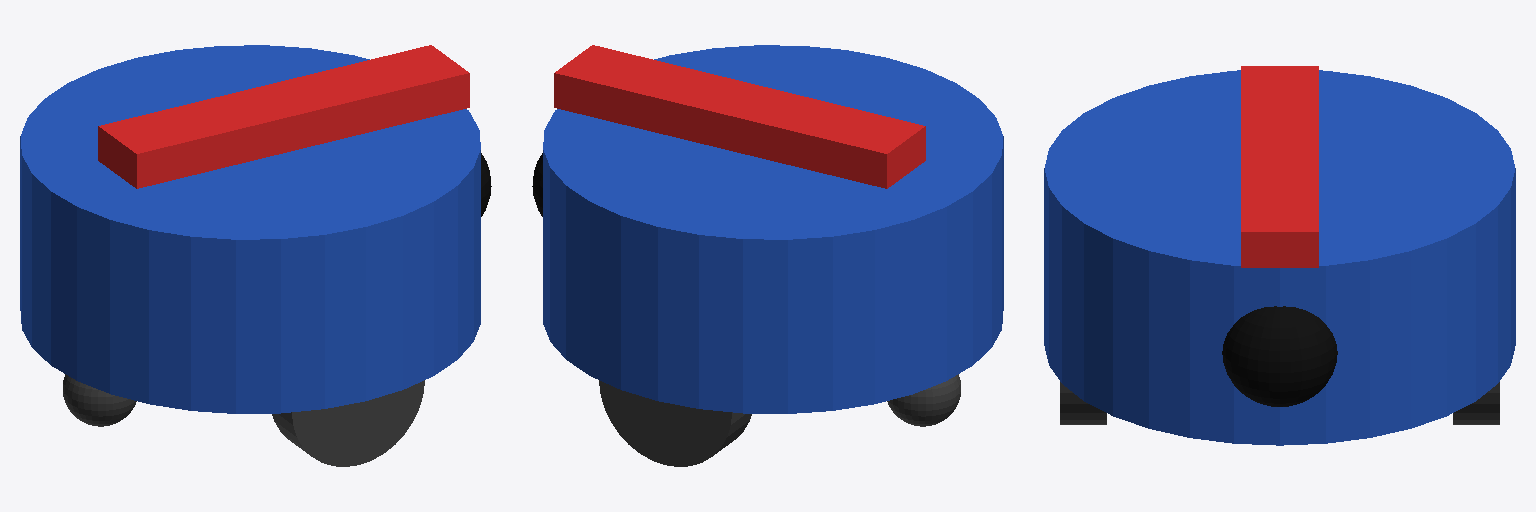
URDF robot description (diffdrive_wheel_robot):
<?xml version="1.0" ?>
<!-- =================================================================================== -->
<!-- |    This document was autogenerated by xacro from /home/docker_user/catkin_ws/src/contact_maintain/urdf/xacro/diffdrive_wheel_robot.urdf.xacro | -->
<!-- |    EDITING THIS FILE BY HAND IS NOT RECOMMENDED                                 | -->
<!-- =================================================================================== -->
<!--
  Differential Drive Robot URDF (Realistic with Wheels)
  
  A non-holonomic robot with 2 drive wheels and a caster wheel.
  Unlike the dummy DifferentialDriveRobot that constrains velocity directly,
  this robot uses actual wheel control and physics.
  
  Kinematics:
  - v = (v_left + v_right) / 2
  - omega = (v_right - v_left) / wheel_base
-->
<robot name="diffdrive_wheel_robot">
  <!-- ==================== PARAMETERS ==================== -->
  <!-- ==================== MATERIALS ==================== -->
  <material name="robot_blue">
    <color rgba="0.2 0.4 0.8 1.0"/>
  </material>
  <material name="black">
    <color rgba="0.1 0.1 0.1 1.0"/>
  </material>
  <material name="dark_gray">
    <color rgba="0.3 0.3 0.3 1.0"/>
  </material>
  <material name="marker_red">
    <color rgba="0.9 0.2 0.2 1.0"/>
  </material>
  <!-- ==================== WORLD LINK ==================== -->
  <link name="world"/>
  <!-- ==================== PLANAR JOINTS ==================== -->
  <!-- X translation joint -->
  <joint name="x_joint" type="prismatic">
    <parent link="world"/>
    <child link="x_carrier"/>
    <origin rpy="0 0 0" xyz="0 0 0.02"/>
    <axis xyz="1 0 0"/>
    <limit effort="1000" lower="-100" upper="100" velocity="10"/>
    <dynamics damping="1.0"/>
  </joint>
  <link name="x_carrier">
    <inertial>
      <mass value="0.01"/>
      <inertia ixx="0.0001" ixy="0" ixz="0" iyy="0.0001" iyz="0" izz="0.0001"/>
    </inertial>
  </link>
  <!-- Y translation joint -->
  <joint name="y_joint" type="prismatic">
    <parent link="x_carrier"/>
    <child link="y_carrier"/>
    <origin rpy="0 0 0" xyz="0 0 0"/>
    <axis xyz="0 1 0"/>
    <limit effort="1000" lower="-100" upper="100" velocity="10"/>
    <dynamics damping="1.0"/>
  </joint>
  <link name="y_carrier">
    <inertial>
      <mass value="0.01"/>
      <inertia ixx="0.0001" ixy="0" ixz="0" iyy="0.0001" iyz="0" izz="0.0001"/>
    </inertial>
  </link>
  <!-- Theta rotation joint -->
  <joint name="theta_joint" type="continuous">
    <parent link="y_carrier"/>
    <child link="base_link"/>
    <origin rpy="0 0 0" xyz="0 0 0"/>
    <axis xyz="0 0 1"/>
    <limit effort="1000" velocity="20"/>
    <dynamics damping="0.5"/>
  </joint>
  <!-- ==================== BASE LINK ==================== -->
  <link name="base_link">
    <!-- Main cylindrical body -->
    <visual>
      <geometry>
        <cylinder length="0.05" radius="0.06"/>
      </geometry>
      <origin rpy="0 0 0" xyz="0 0 0.025"/>
      <material name="robot_blue"/>
    </visual>
    <!-- Forward direction marker -->
    <visual>
      <geometry>
        <box size="0.1 0.02 0.01"/>
      </geometry>
      <origin rpy="0 0 0" xyz="0.009999999999999995 0 0.055"/>
      <material name="marker_red"/>
    </visual>
    <collision>
      <geometry>
        <cylinder length="0.05" radius="0.06"/>
      </geometry>
      <origin rpy="0 0 0" xyz="0 0 0.025"/>
    </collision>
    <inertial>
      <mass value="0.6"/>
      <origin xyz="0 0 0.025"/>
      <inertia ixx="0.0006649999999999999" ixy="0" ixz="0" iyy="0.0006649999999999999" iyz="0" izz="0.0010799999999999998"/>
    </inertial>
  </link>
  <!-- ==================== BUMPER ==================== -->
  <joint name="bumper_joint" type="fixed">
    <parent link="base_link"/>
    <child link="bumper"/>
    <origin rpy="0 0 0" xyz="0.055 0 0.025"/>
  </joint>
  <link name="bumper">
    <visual>
      <geometry>
        <sphere radius="0.015"/>
      </geometry>
      <material name="black"/>
    </visual>
    <collision>
      <geometry>
        <sphere radius="0.015"/>
      </geometry>
    </collision>
    <inertial>
      <mass value="0.2"/>
      <inertia ixx="0.0001" ixy="0" ixz="0" iyy="0.0001" iyz="0" izz="0.0001"/>
    </inertial>
  </link>
  <!-- ==================== DRIVE WHEELS ==================== -->
  <!-- Left wheel -->
  <joint name="wheel_left_joint" type="continuous">
    <parent link="base_link"/>
    <child link="wheel_left_link"/>
    <origin rpy="-1.5708 0 0" xyz="0 0.05 0"/>
    <axis xyz="0 0 1"/>
    <limit effort="100" velocity="100"/>
    <dynamics damping="0.01"/>
  </joint>
  <link name="wheel_left_link">
    <visual>
      <geometry>
        <cylinder length="0.012" radius="0.02"/>
      </geometry>
      <material name="dark_gray"/>
    </visual>
    <collision>
      <geometry>
        <cylinder length="0.012" radius="0.02"/>
      </geometry>
    </collision>
    <inertial>
      <mass value="0.05"/>
      <inertia ixx="5.6e-06" ixy="0" ixz="0" iyy="5.6e-06" iyz="0" izz="1e-05"/>
    </inertial>
  </link>
  <!-- Right wheel -->
  <joint name="wheel_right_joint" type="continuous">
    <parent link="base_link"/>
    <child link="wheel_right_link"/>
    <origin rpy="-1.5708 0 0" xyz="0 -0.05 0"/>
    <axis xyz="0 0 1"/>
    <limit effort="100" velocity="100"/>
    <dynamics damping="0.01"/>
  </joint>
  <link name="wheel_right_link">
    <visual>
      <geometry>
        <cylinder length="0.012" radius="0.02"/>
      </geometry>
      <material name="dark_gray"/>
    </visual>
    <collision>
      <geometry>
        <cylinder length="0.012" radius="0.02"/>
      </geometry>
    </collision>
    <inertial>
      <mass value="0.05"/>
      <inertia ixx="5.6e-06" ixy="0" ixz="0" iyy="5.6e-06" iyz="0" izz="1e-05"/>
    </inertial>
  </link>
  <!-- ==================== CASTER WHEEL ==================== -->
  <joint name="caster_joint" type="fixed">
    <parent link="base_link"/>
    <child link="caster_link"/>
    <origin rpy="0 0 0" xyz="-0.045 0 -0.01"/>
  </joint>
  <link name="caster_link">
    <visual>
      <geometry>
        <sphere radius="0.01"/>
      </geometry>
      <material name="dark_gray"/>
    </visual>
    <collision>
      <geometry>
        <sphere radius="0.01"/>
      </geometry>
    </collision>
    <inertial>
      <mass value="0.1"/>
      <inertia ixx="0.00001" ixy="0" ixz="0" iyy="0.00001" iyz="0" izz="0.00001"/>
    </inertial>
  </link>
</robot>

--- Render facts (derived) ---
Views: 3 orthographic renders of the robot side by side, from view 1: azimuth 30°, elevation 25°; view 2: azimuth 150°, elevation 25°; view 3: azimuth 270°, elevation 25°.
Robot: diffdrive_wheel_robot — 8 links, 7 joints (3 continuous, 2 prismatic, 2 fixed); root link world; default pose: all joints at 0.
Links seen in each view (by area): view 1: base_link, wheel_right_link, caster_link; view 2: base_link, wheel_left_link, caster_link; view 3: base_link, bumper, wheel_left_link, wheel_right_link.
Link boxes in pixels (x1=…): base_link: x1=20, y1=45, x2=480, y2=413; wheel_right_link: x1=272, y1=380, x2=424, y2=466; caster_link: x1=63, y1=374, x2=136, y2=426; base_link: x1=543, y1=45, x2=1003, y2=413; wheel_left_link: x1=599, y1=380, x2=751, y2=466; caster_link: x1=887, y1=374, x2=960, y2=426; base_link: x1=1044, y1=66, x2=1515, y2=445; bumper: x1=1222, y1=306, x2=1337, y2=406; wheel_left_link: x1=1453, y1=382, x2=1499, y2=424; wheel_right_link: x1=1060, y1=382, x2=1106, y2=424.
Size in the robot's own frame: 0.13 by 0.12 by 0.08 metres.
Geometry: primitives only (box / cylinder / sphere), no mesh files.
